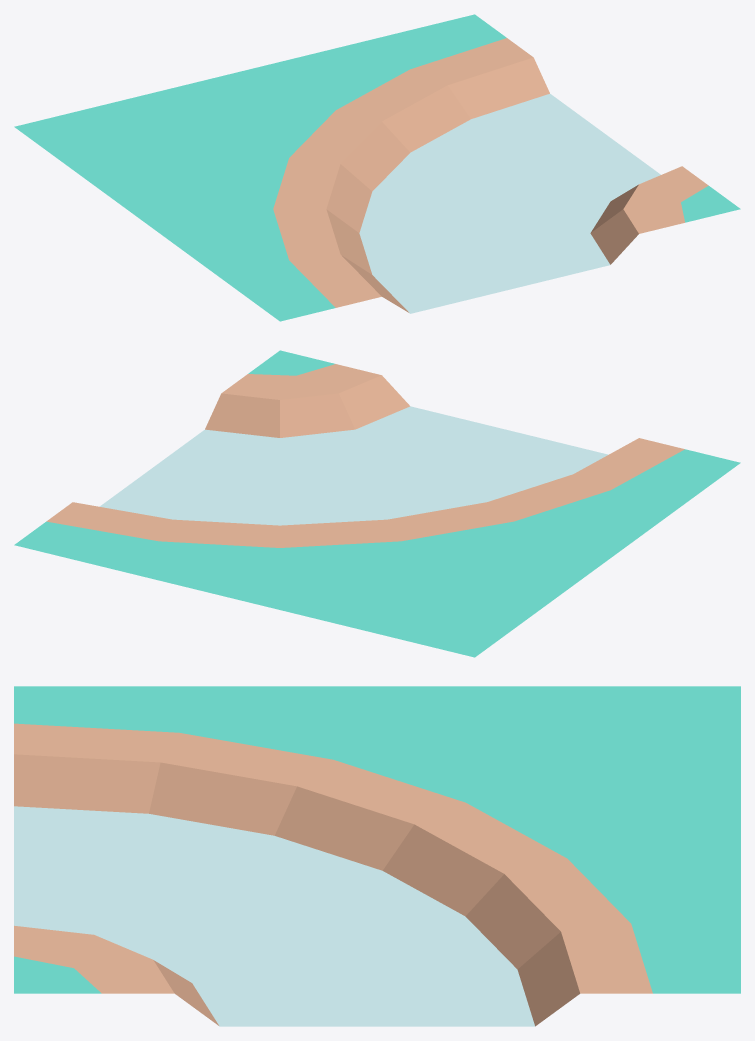
Rendered from ground_riverBend.glb.
3 views of the same model, one above another, from view 1: azimuth 30°, elevation 25°; view 2: azimuth 150°, elevation 25°; view 3: azimuth 270°, elevation 25° (orthographic). The views are drawn at different scales.
Parts seen in each view (by area): view 1: ground_riverBend; view 2: ground_riverBend; view 3: ground_riverBend.
Part boxes in pixels (bbox=[...]): ground_riverBend: bbox=[14, 14, 740, 321]; ground_riverBend: bbox=[14, 350, 740, 657]; ground_riverBend: bbox=[14, 686, 740, 1026].
Bounding box in the file's own units: 1 × 0.05 × 1.
